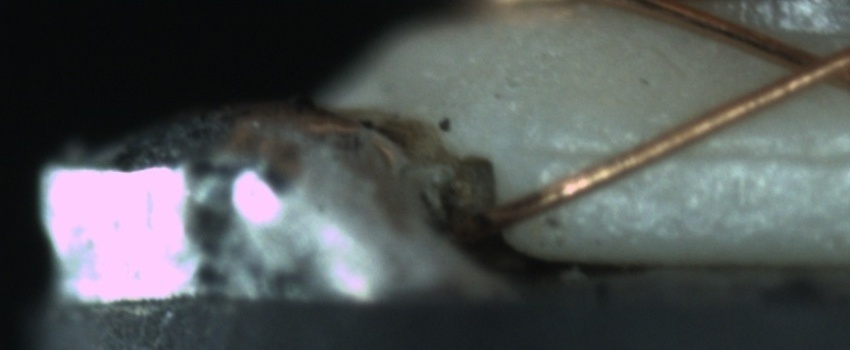CL: (762, 37, 847, 100)
DL: (543, 119, 848, 184)
